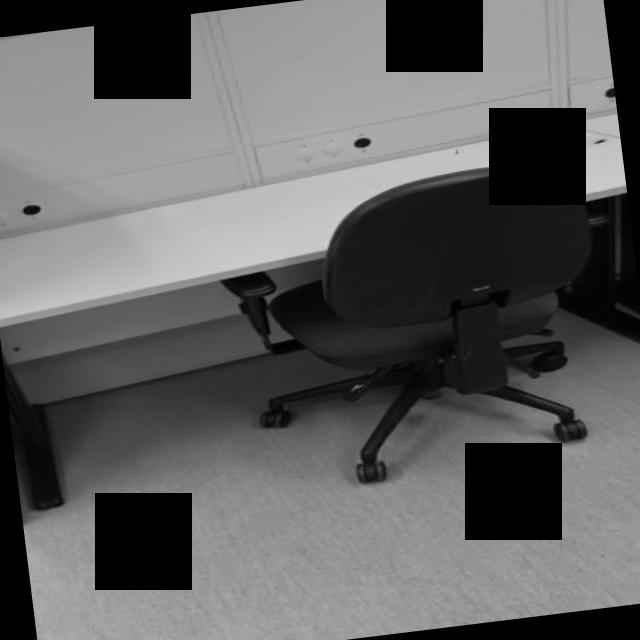cadeira-azul: (214, 155, 616, 498)
